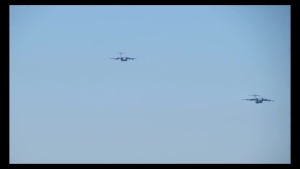flight: (109, 51, 138, 64), (241, 93, 274, 104)
